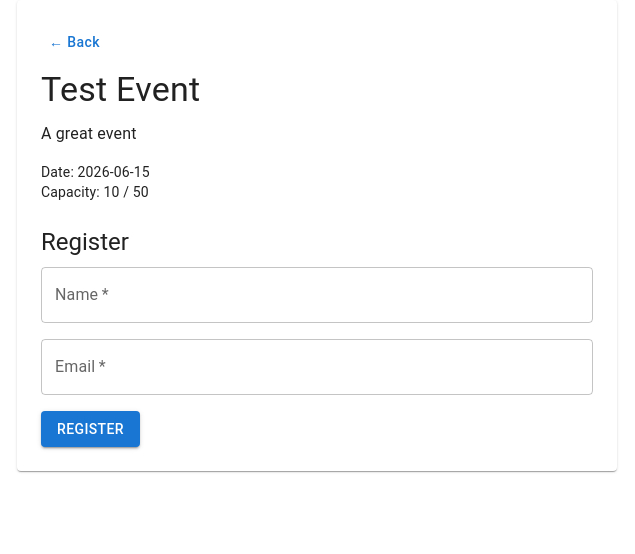
registers a user successfully
Expected: the heading "Test Event" is shown, top-left (41, 68), bottom-right (200, 108)
Type "Alice" into the field labelled "Name *" at coordinates (317, 295), box top-left (41, 267), bottom-right (593, 323)
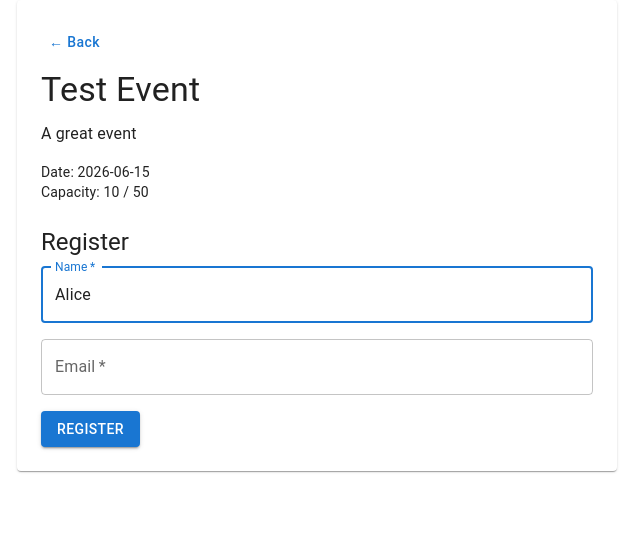
Type "alice@test.com" into the field labelled "Email *" at coordinates (317, 367), box top-left (41, 339), bottom-right (593, 395)
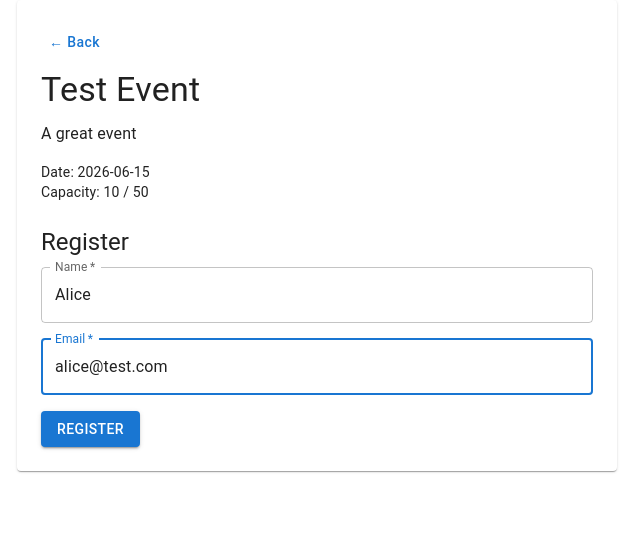
Click the button "Register" at coordinates (90, 429), box top-left (41, 411), bottom-right (140, 447)
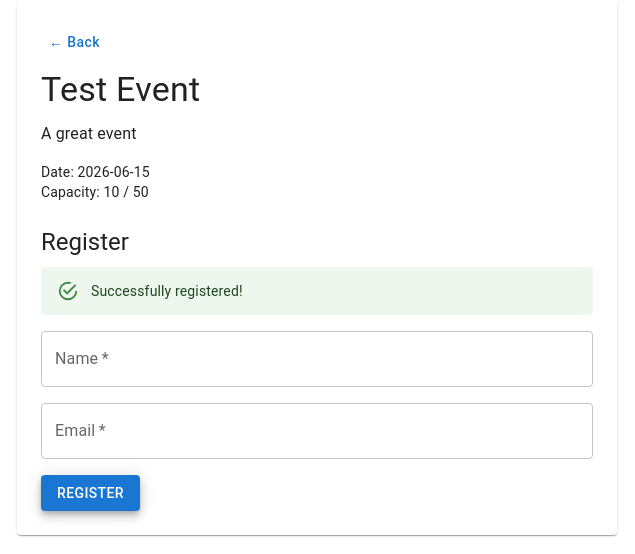
Now the text "Successfully registered!" is shown, box top-left (91, 283), bottom-right (243, 299)
